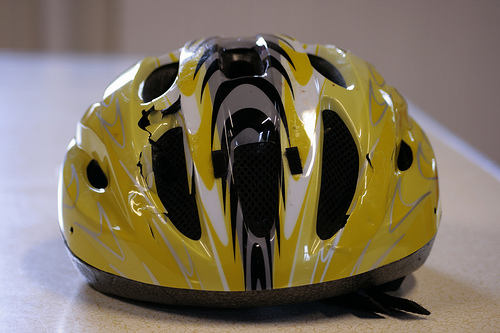helmet: (69, 56, 435, 274)
